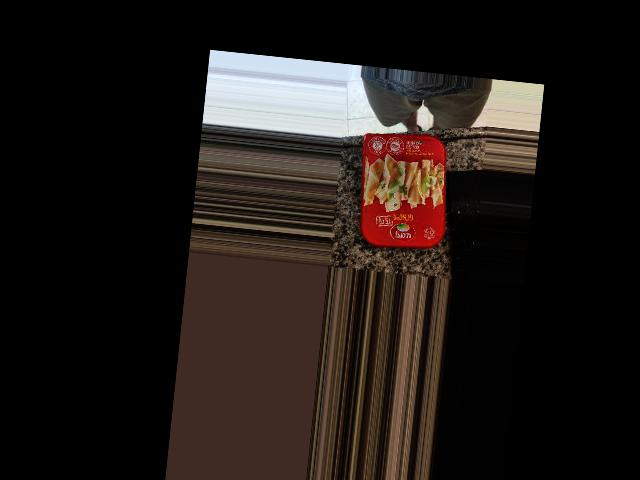cheese: (365, 109, 458, 230)
